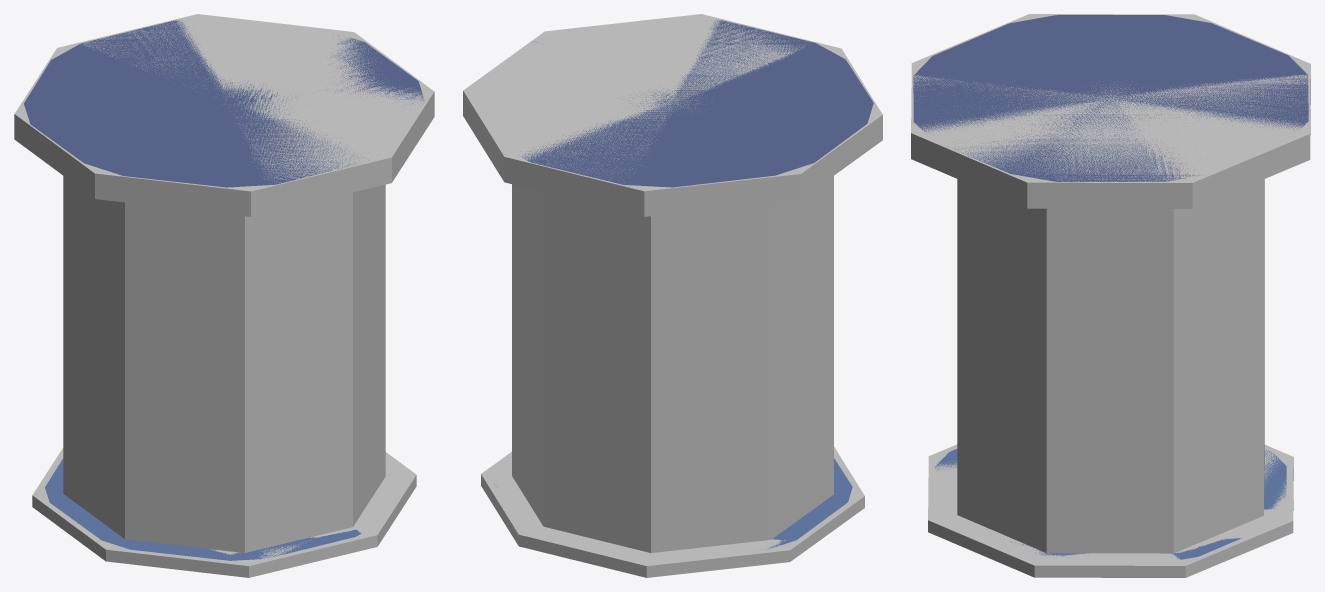
File: SM_Building_17_Base.fbx
The picture shows the model from 3 angles, left to right: view 1: azimuth 30°, elevation 25°; view 2: azimuth 150°, elevation 25°; view 3: azimuth 270°, elevation 25°; orthographic projection. The views are drawn at different scales.
Visible parts, largest first — view 1: SM_Building_17_Base_ConvexHulls, SM_Building_17_Base; view 2: SM_Building_17_Base_ConvexHulls, SM_Building_17_Base; view 3: SM_Building_17_Base_ConvexHulls, SM_Building_17_Base.
Boxes of the visible parts, x1,y1,x2,y2 form: SM_Building_17_Base_ConvexHulls: [14, 14, 434, 577]; SM_Building_17_Base: [24, 20, 424, 560]; SM_Building_17_Base_ConvexHulls: [463, 14, 882, 577]; SM_Building_17_Base: [494, 20, 873, 549]; SM_Building_17_Base_ConvexHulls: [911, 14, 1310, 577]; SM_Building_17_Base: [913, 15, 1308, 559].
Bounding box in the file's own units: 901 × 901 × 1000.
2 materials, 1 textured.
